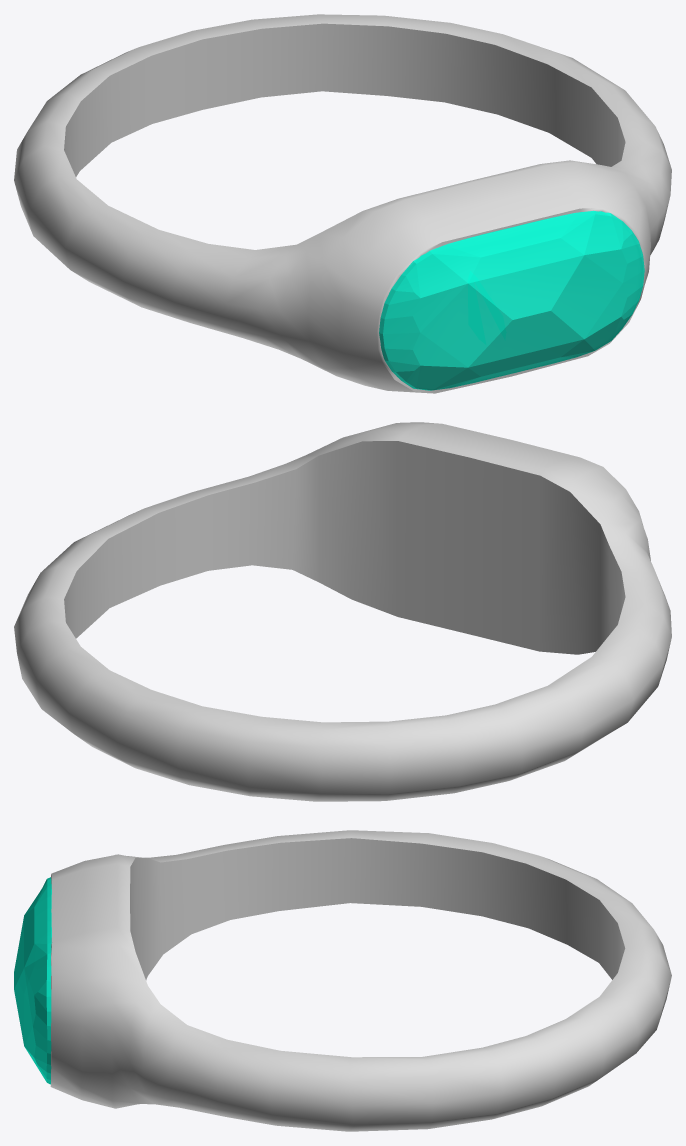
Rendered from OvalRingAfter.glb.
3 renders of one model, top to bottom at view 1: azimuth 30°, elevation 25°; view 2: azimuth 150°, elevation 25°; view 3: azimuth 270°, elevation 25°, orthographic. The views are drawn at different scales.
Visible parts, largest first — view 1: Metal_long, Gem_long; view 2: Metal_long; view 3: Metal_long, Gem_long.
Part boxes in pixels (x1,y1,x2,y2): Metal_long: (14, 14, 671, 393); Gem_long: (379, 210, 644, 390); Metal_long: (14, 422, 671, 801); Metal_long: (50, 830, 671, 1131); Gem_long: (14, 877, 51, 1084).
Size of the model in its own units: 2.86 by 0.8942 by 3.08.
